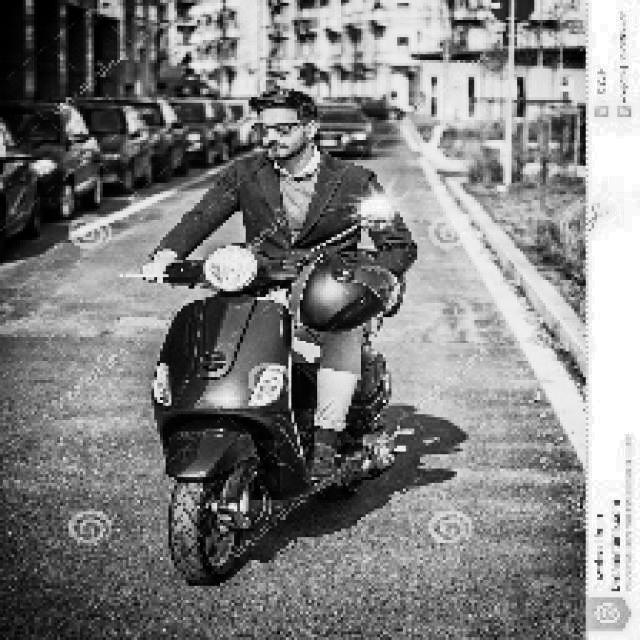Bike: (139, 248, 329, 572)
